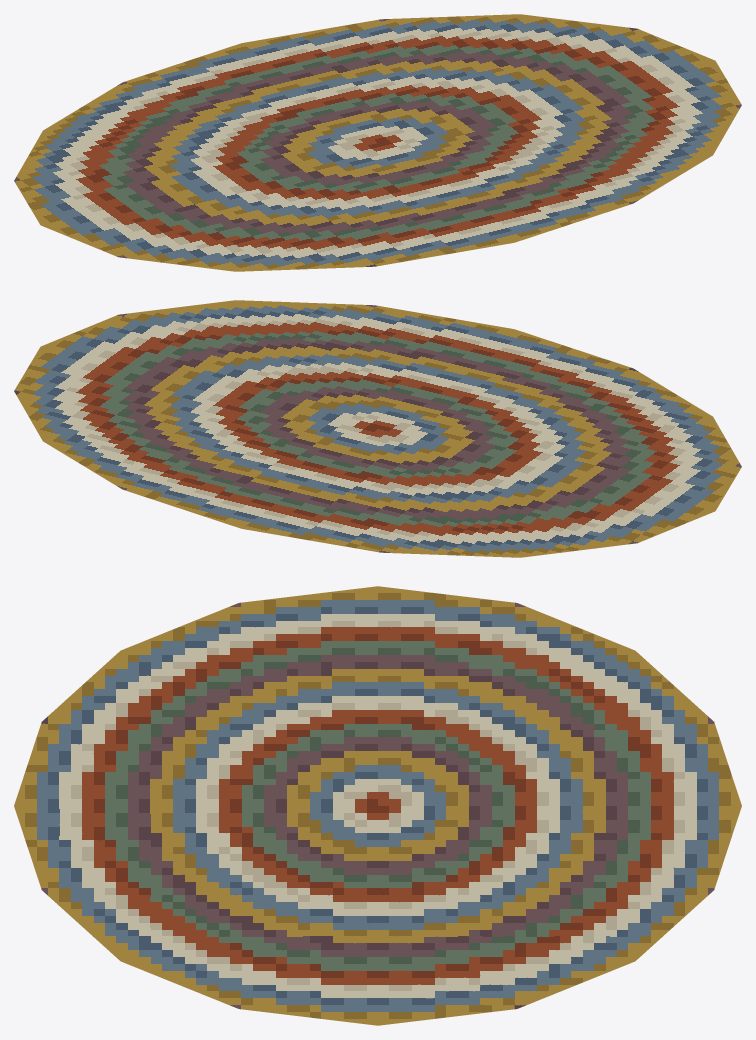
Rendered from RES_Rug_Oval.obj.
3 renders of one model, top to bottom at view 1: azimuth 30°, elevation 25°; view 2: azimuth 150°, elevation 25°; view 3: azimuth 270°, elevation 25°, orthographic. The views are drawn at different scales.
Visible parts, largest first — view 1: RES_Rug_Oval; view 2: RES_Rug_Oval; view 3: RES_Rug_Oval.
Part boxes in pixels (bbox=[...]): RES_Rug_Oval: bbox=[14, 14, 741, 271]; RES_Rug_Oval: bbox=[14, 300, 741, 557]; RES_Rug_Oval: bbox=[14, 586, 741, 1025].
Bounding box in the file's own units: 2 × 0 × 1.4.
1 material, 1 textured.
